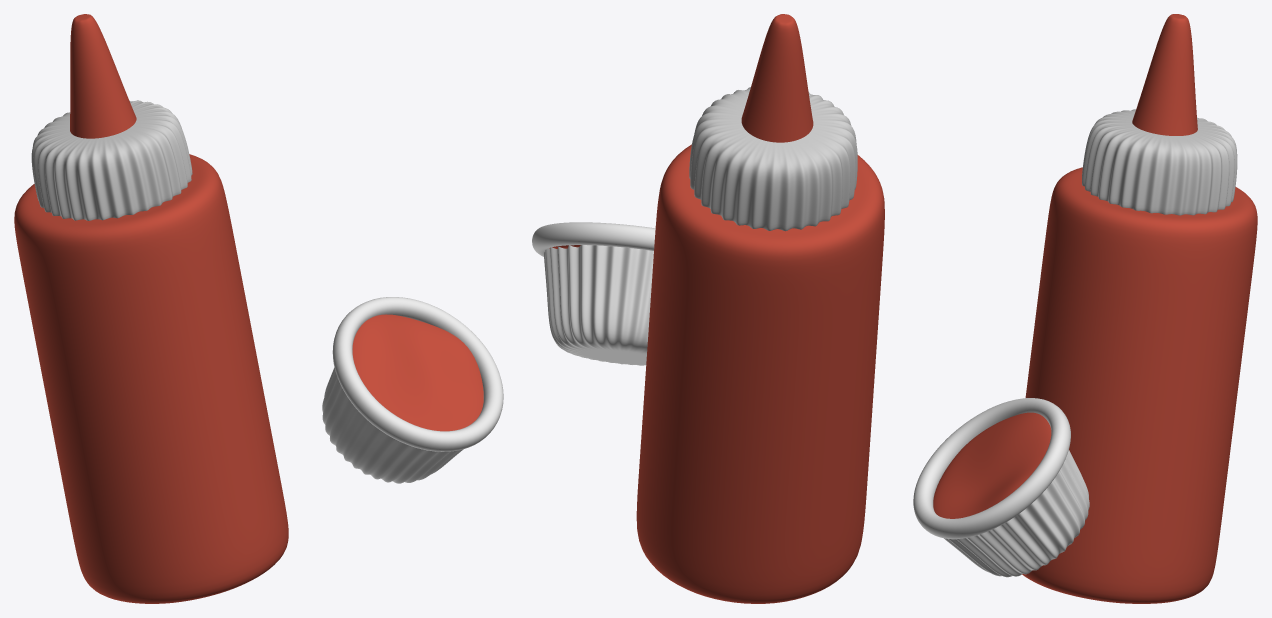
The model's file is Sauce.fbx.
3 renders of one model, left to right at view 1: azimuth 30°, elevation 25°; view 2: azimuth 150°, elevation 25°; view 3: azimuth 270°, elevation 25°, orthographic. The views are drawn at different scales.
Visible parts, largest first — view 1: sauce_bottle.002_Circle.097, sauce_cup.002_Circle.104, bottle2.002_Circle.098, sauce.002_Circle.105; view 2: sauce_bottle.002_Circle.097, bottle2.002_Circle.098, sauce_cup.002_Circle.104; view 3: sauce_bottle.002_Circle.097, sauce_cup.002_Circle.104, bottle2.002_Circle.098, sauce.002_Circle.105.
Boxes of the visible parts, left/top/right/bottom form: sauce_bottle.002_Circle.097: left=14, top=14, right=288, bottom=603; sauce_cup.002_Circle.104: left=322, top=297, right=503, bottom=483; bottle2.002_Circle.098: left=31, top=100, right=192, bottom=220; sauce.002_Circle.105: left=352, top=314, right=483, bottom=431; sauce_bottle.002_Circle.097: left=636, top=14, right=884, bottom=603; bottle2.002_Circle.098: left=689, top=87, right=857, bottom=231; sauce_cup.002_Circle.104: left=532, top=222, right=655, bottom=365; sauce_bottle.002_Circle.097: left=1022, top=14, right=1257, bottom=603; sauce_cup.002_Circle.104: left=913, top=398, right=1089, bottom=577; bottle2.002_Circle.098: left=1082, top=109, right=1237, bottom=215; sauce.002_Circle.105: left=933, top=412, right=1051, bottom=518.
Bounding box in the file's own units: 137 × 188 × 108.
